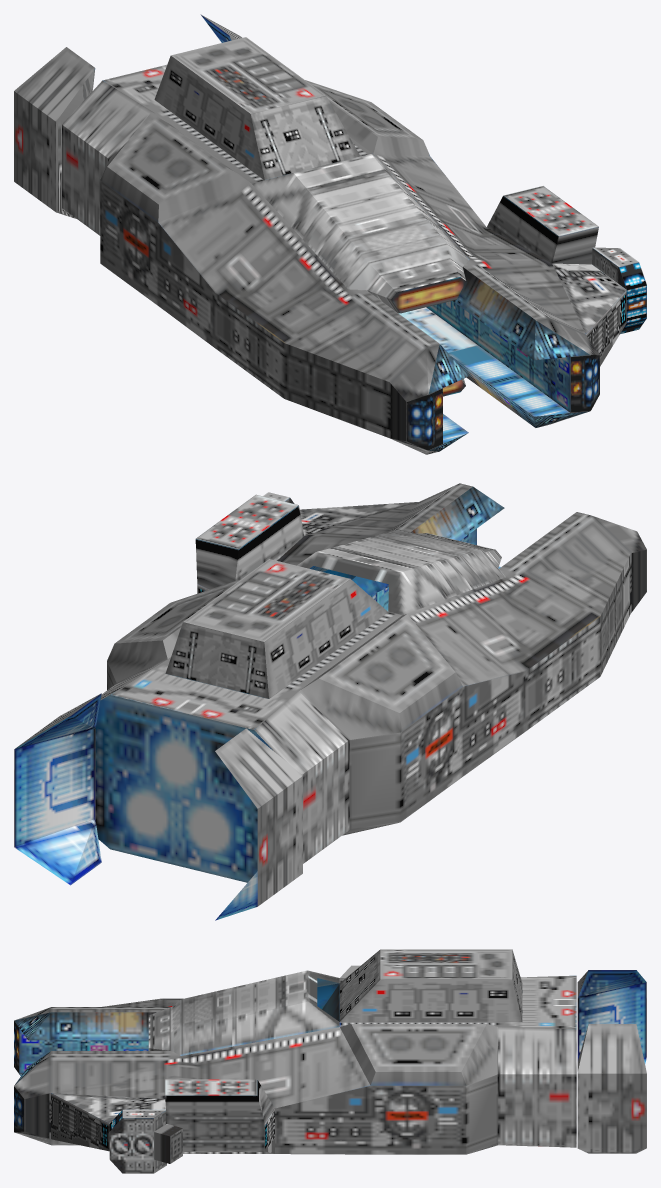
File: Carrier-T.obj
3 renders of one model, top to bottom at view 1: azimuth 30°, elevation 25°; view 2: azimuth 150°, elevation 25°; view 3: azimuth 270°, elevation 25°, orthographic. The views are drawn at different scales.
Parts seen in each view (by area): view 1: Carrier; view 2: Carrier; view 3: Carrier.
Part boxes in pixels (x1,y1,x2,y2): Carrier: [14, 14, 646, 454]; Carrier: [14, 483, 646, 920]; Carrier: [14, 949, 646, 1173].
Bounding box in the file's own units: 255 × 148 × 493.
